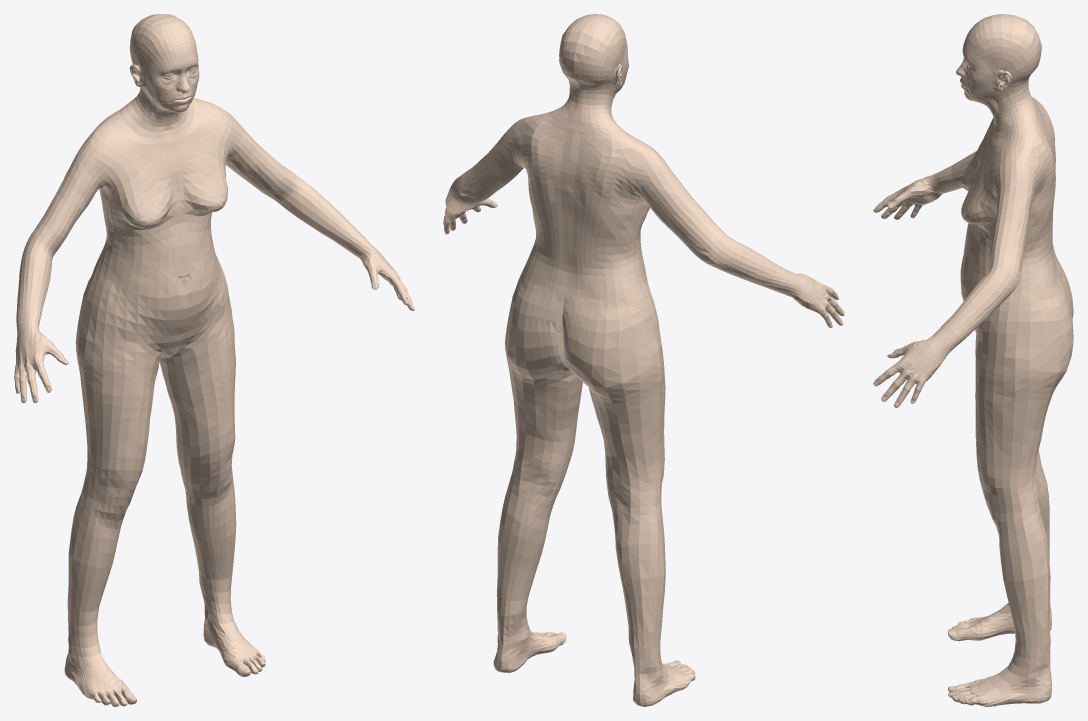
The model's file is female-older-heavy-toned.glb.
The picture shows the model from 3 angles, left to right: view 1: azimuth 30°, elevation 25°; view 2: azimuth 150°, elevation 25°; view 3: azimuth 270°, elevation 25°; orthographic projection.
Visible parts, largest first — view 1: world; view 2: world; view 3: world.
Boxes of the visible parts, box(x1,y1,x2,y2) form: world: box(14, 14, 414, 706); world: box(443, 14, 844, 706); world: box(873, 14, 1073, 706).
Bounding box in the file's own units: 1.13 × 1.8 × 0.5032.
